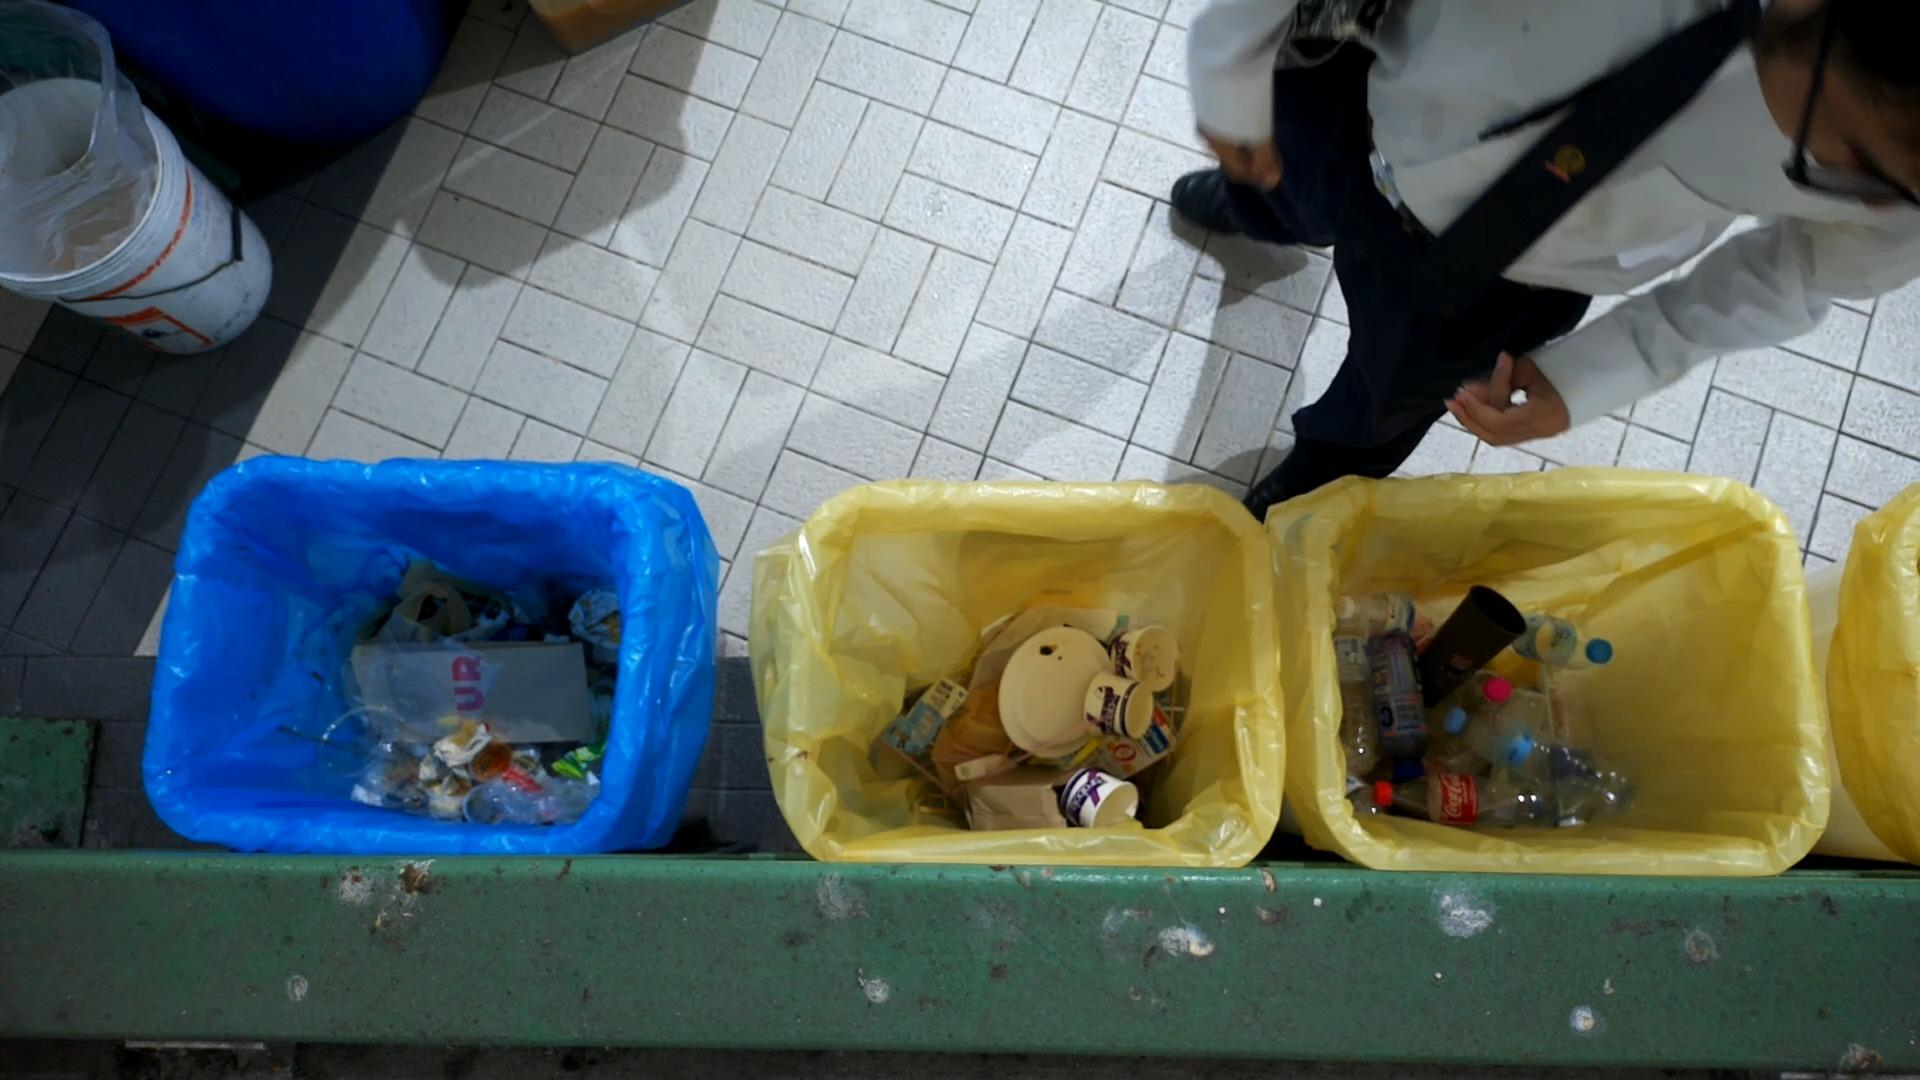food container: (993, 622, 1121, 762), (1056, 762, 1143, 835), (1083, 667, 1159, 748), (1112, 624, 1183, 698), (459, 781, 510, 828)
milk carton: (1089, 704, 1185, 785)
plastic bottle: (1445, 704, 1648, 823), (1364, 770, 1552, 833), (1317, 611, 1381, 778), (1366, 628, 1433, 782), (1515, 605, 1621, 676), (1333, 584, 1456, 640), (481, 777, 608, 828)
plastic cup: (315, 705, 440, 815), (1416, 584, 1535, 699)
snack packaging: (344, 625, 603, 758), (884, 670, 977, 765)
tissue paper: (418, 717, 496, 782)
